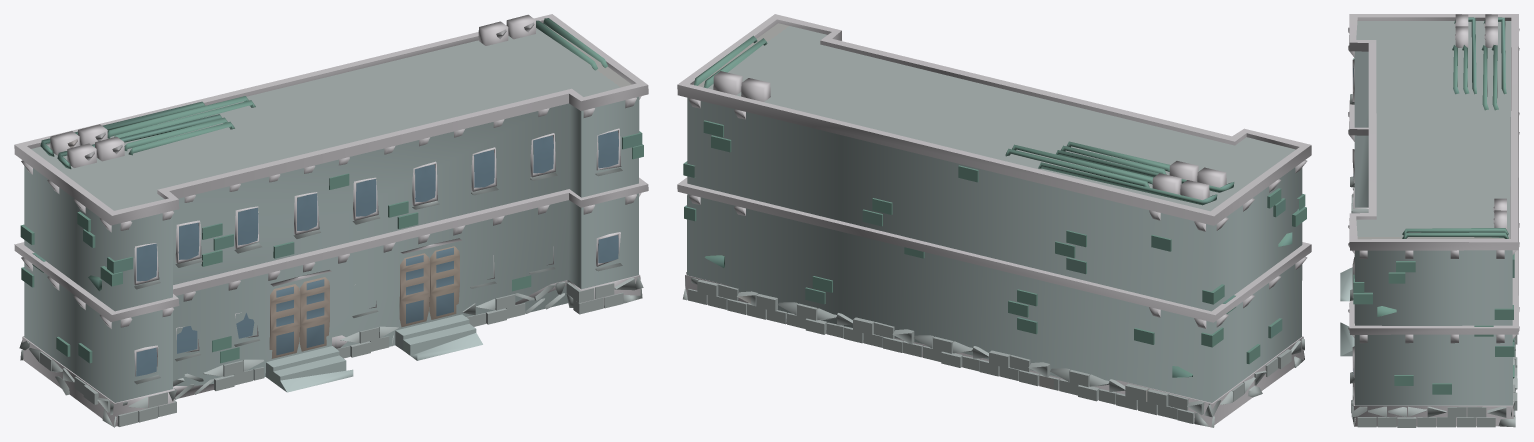
The model's file is motel-long.glb.
3 views of the same model, side by side, from view 1: azimuth 30°, elevation 25°; view 2: azimuth 150°, elevation 25°; view 3: azimuth 270°, elevation 25° (orthographic). The views are drawn at different scales.
Parts seen in each view (by area): view 1: 2Story_Wide_2Doors; view 2: 2Story_Wide_2Doors; view 3: 2Story_Wide_2Doors.
Part boxes in pixels (x1,y1,x2,y2): 2Story_Wide_2Doors: [14, 14, 648, 427]; 2Story_Wide_2Doors: [677, 14, 1311, 427]; 2Story_Wide_2Doors: [1340, 14, 1519, 427].
Bounding box in the file's own units: 1 × 0.401 × 0.3299.
1 material, 1 textured.
